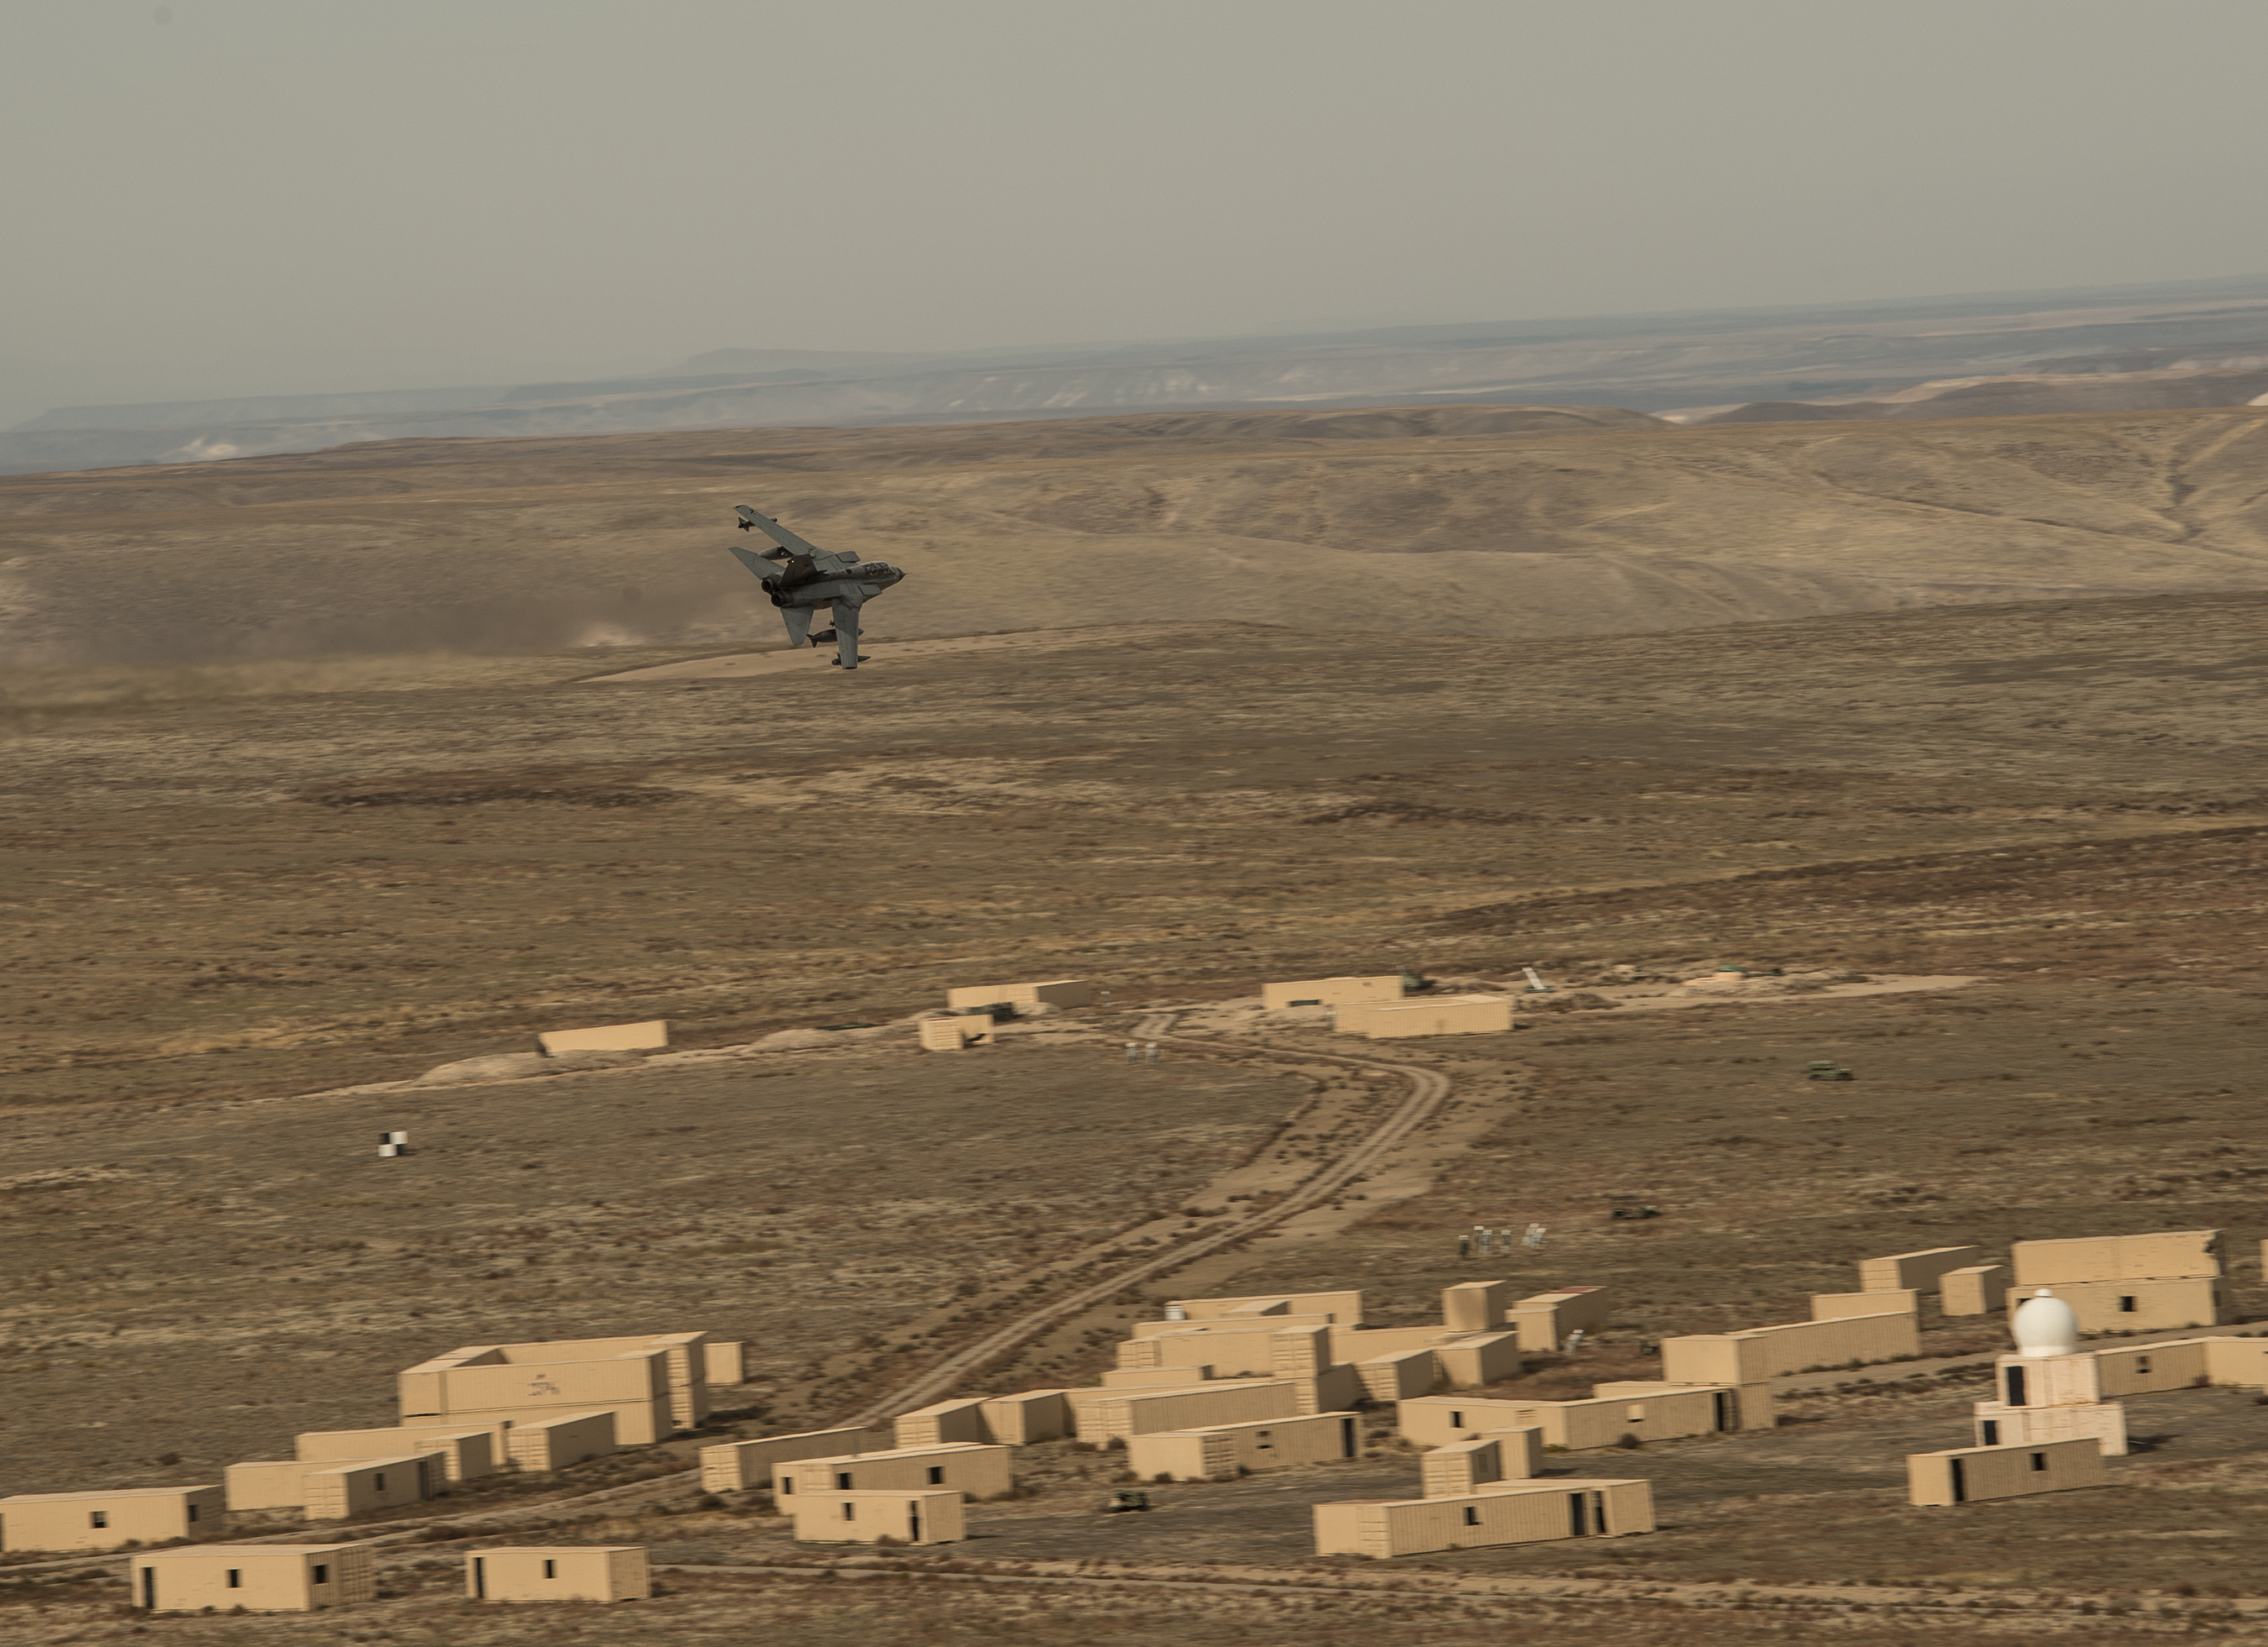Tornado: (727, 504, 914, 669)
